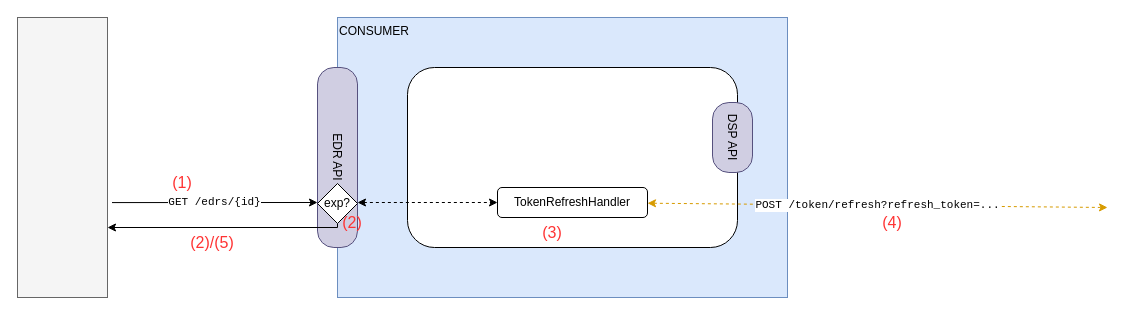
The diagram is 1134 pixels wide and 315 high, and some of its shapes have lost their labels. Each missing label, with the box of its shape:
CLIENT APPLICATION: (16, 16, 108, 298)
Consumer ControlPlane: (406, 66, 738, 248)
